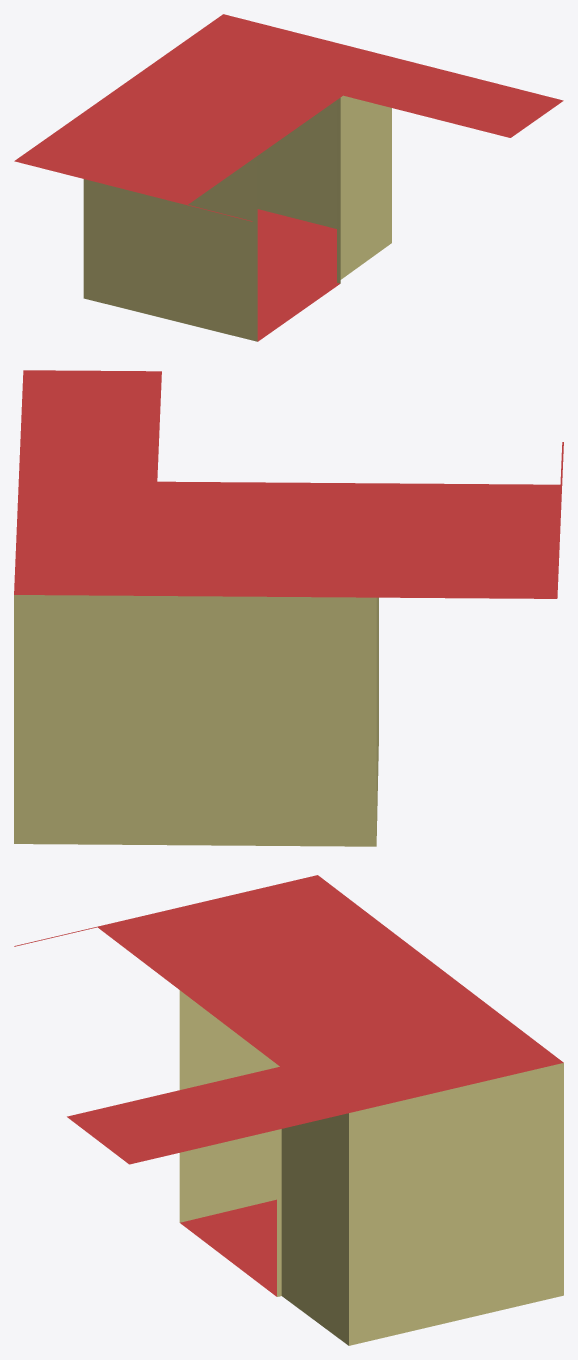
3 renders of one model, top to bottom at view 1: azimuth 30°, elevation 25°; view 2: azimuth 150°, elevation 25°; view 3: azimuth 270°, elevation 25°, orthographic. The views are drawn at different scales.
Size of the model in its own units: 15.76 by 12.65 by 5.91.
